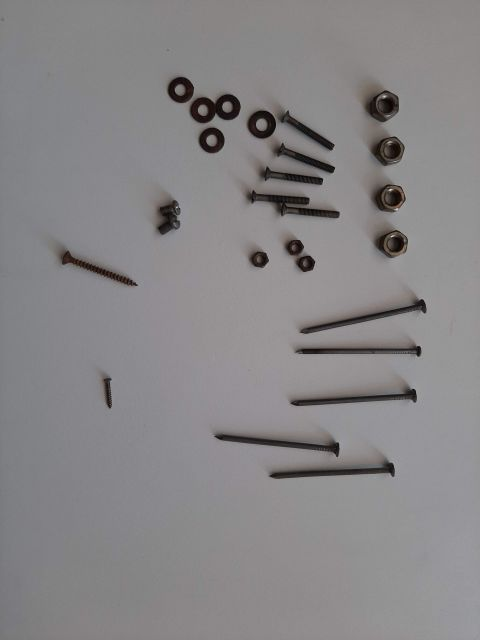gwozdz: (275, 355, 415, 415), (295, 275, 425, 335), (275, 325, 415, 355), (265, 445, 395, 475), (215, 425, 345, 455)
nakretka: (355, 65, 415, 125), (365, 115, 425, 175), (365, 165, 425, 225), (365, 215, 425, 275), (235, 245, 275, 275), (275, 225, 315, 255), (285, 245, 325, 275)
podkladka: (135, 65, 205, 105), (165, 85, 235, 125), (195, 85, 265, 125), (175, 115, 245, 155), (225, 105, 295, 145)
sruba: (275, 95, 335, 155), (75, 355, 125, 415), (275, 185, 335, 215), (245, 175, 305, 205), (265, 155, 325, 185), (275, 145, 335, 175), (135, 185, 185, 215), (145, 205, 195, 235)
